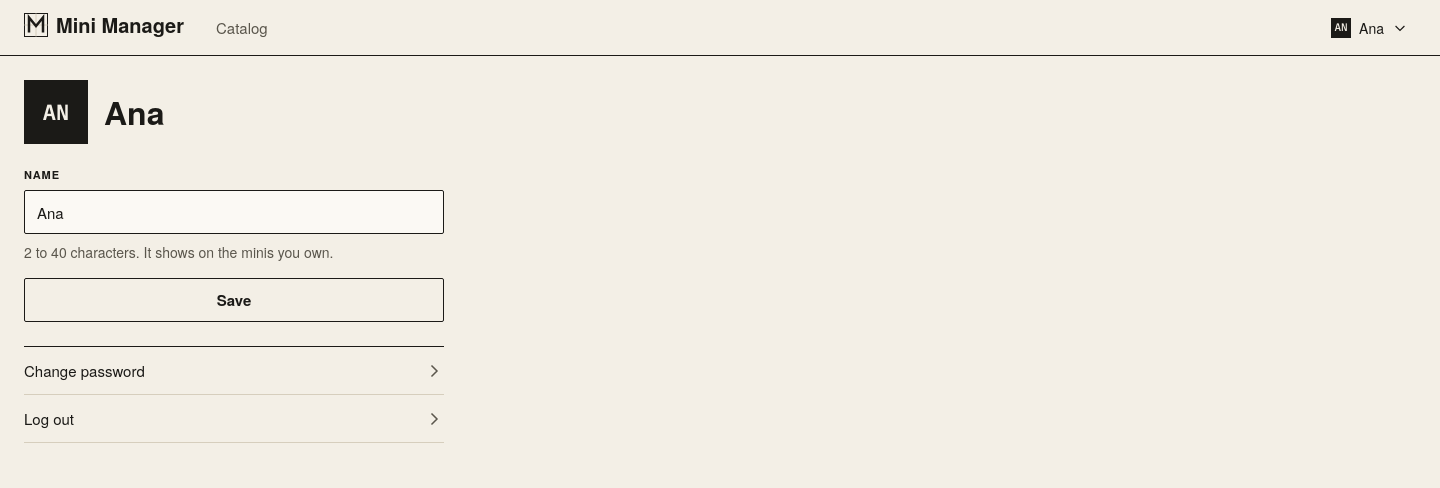
ProfilePage › card 3 rule 5: a name someone else uses shows under the field
Replace the text in the field labelled "Name" with "Mateus" at [234, 212], box [37,191,431,233]
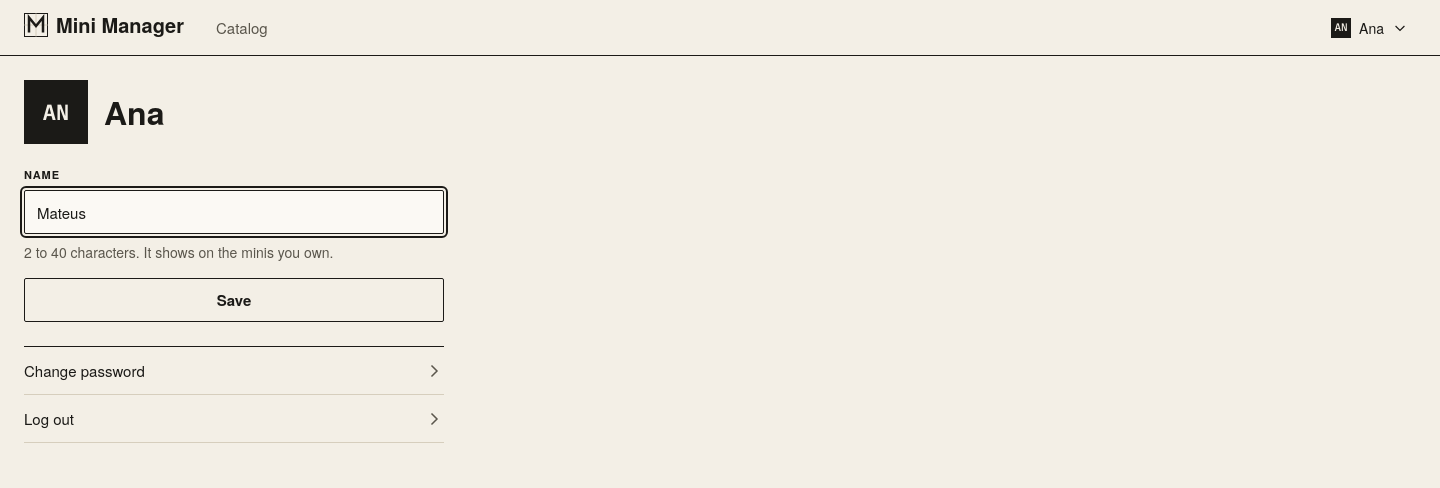
Click the button "Save".
click(234, 300)  # box [24,278,444,322]
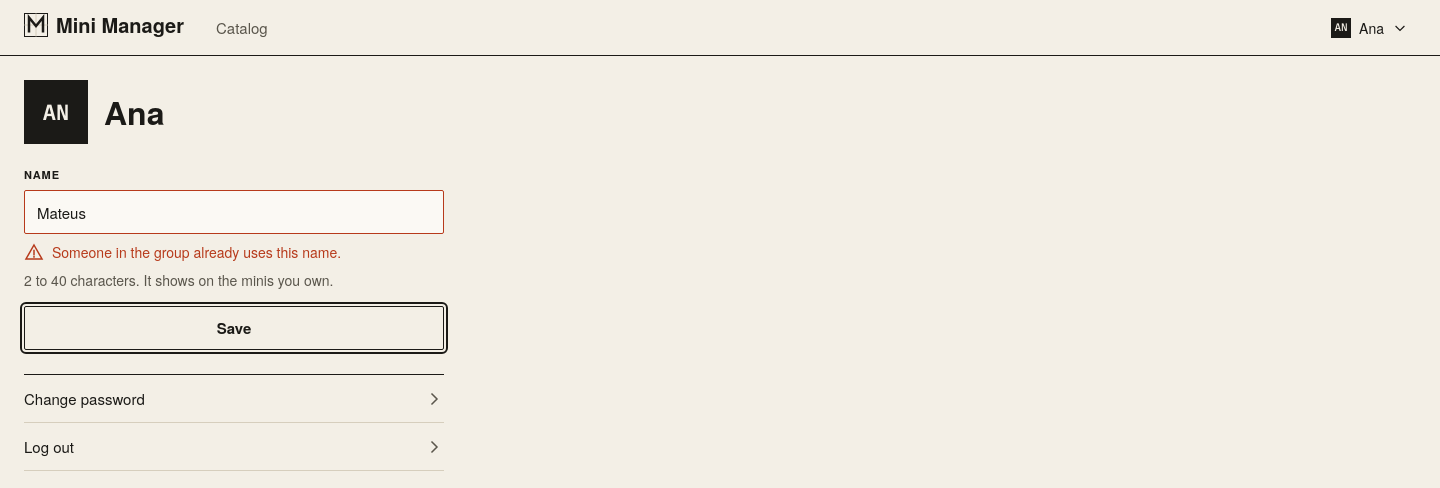
Check: the text "Someone in the group already uses this name." is shown, box [52,242,341,262]
